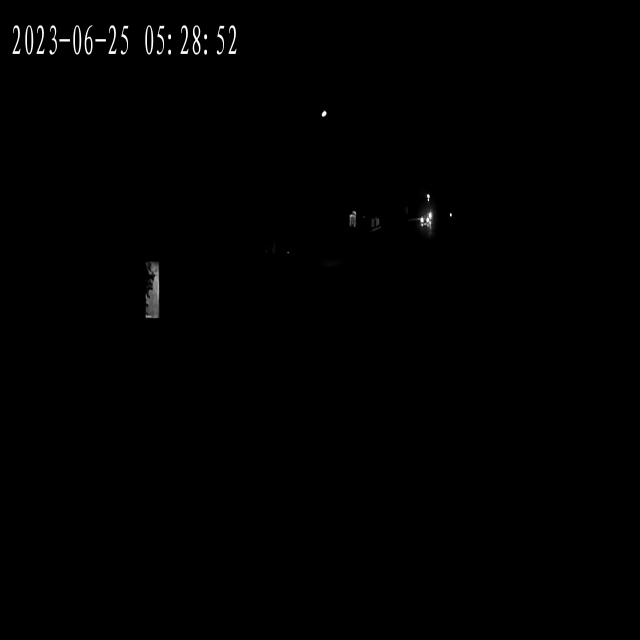Car: (420, 214, 432, 234)
